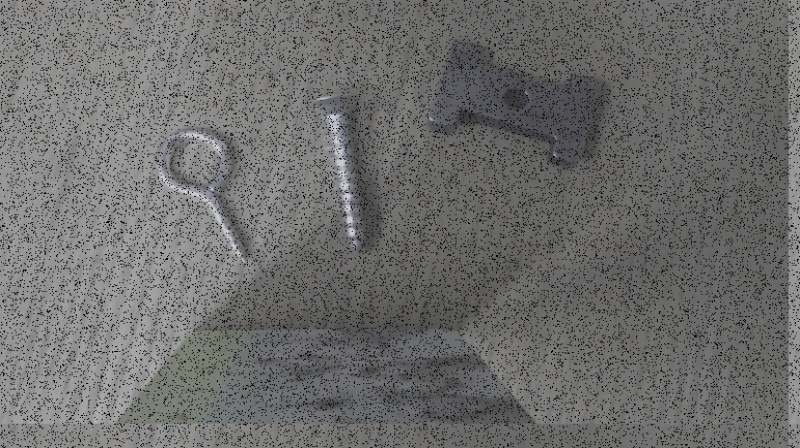O001: (152, 126, 253, 268)
O002: (423, 37, 609, 168)
S001: (304, 92, 371, 257)
